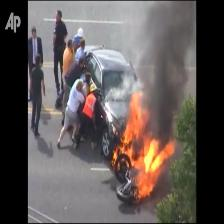fire: (112, 93, 174, 200)
